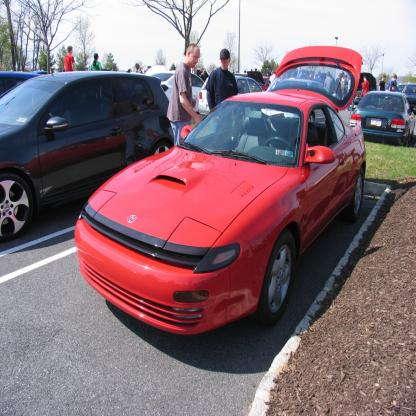Car: (1, 47, 416, 329)
